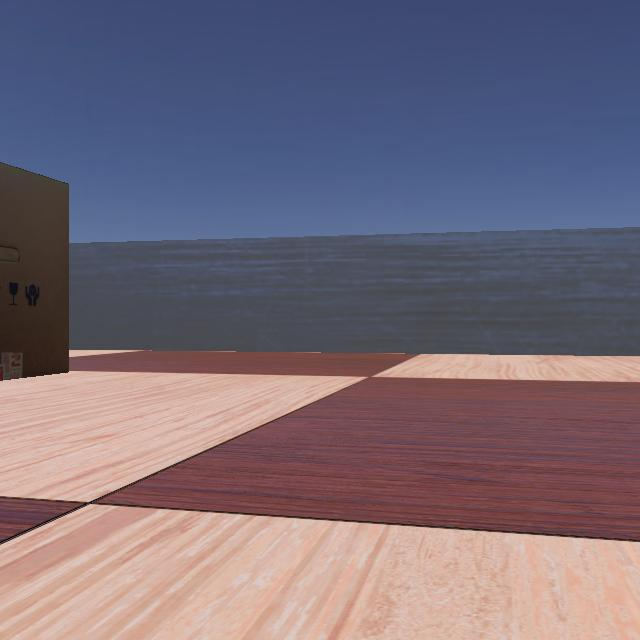cardboard-box: (0, 123, 72, 394)
